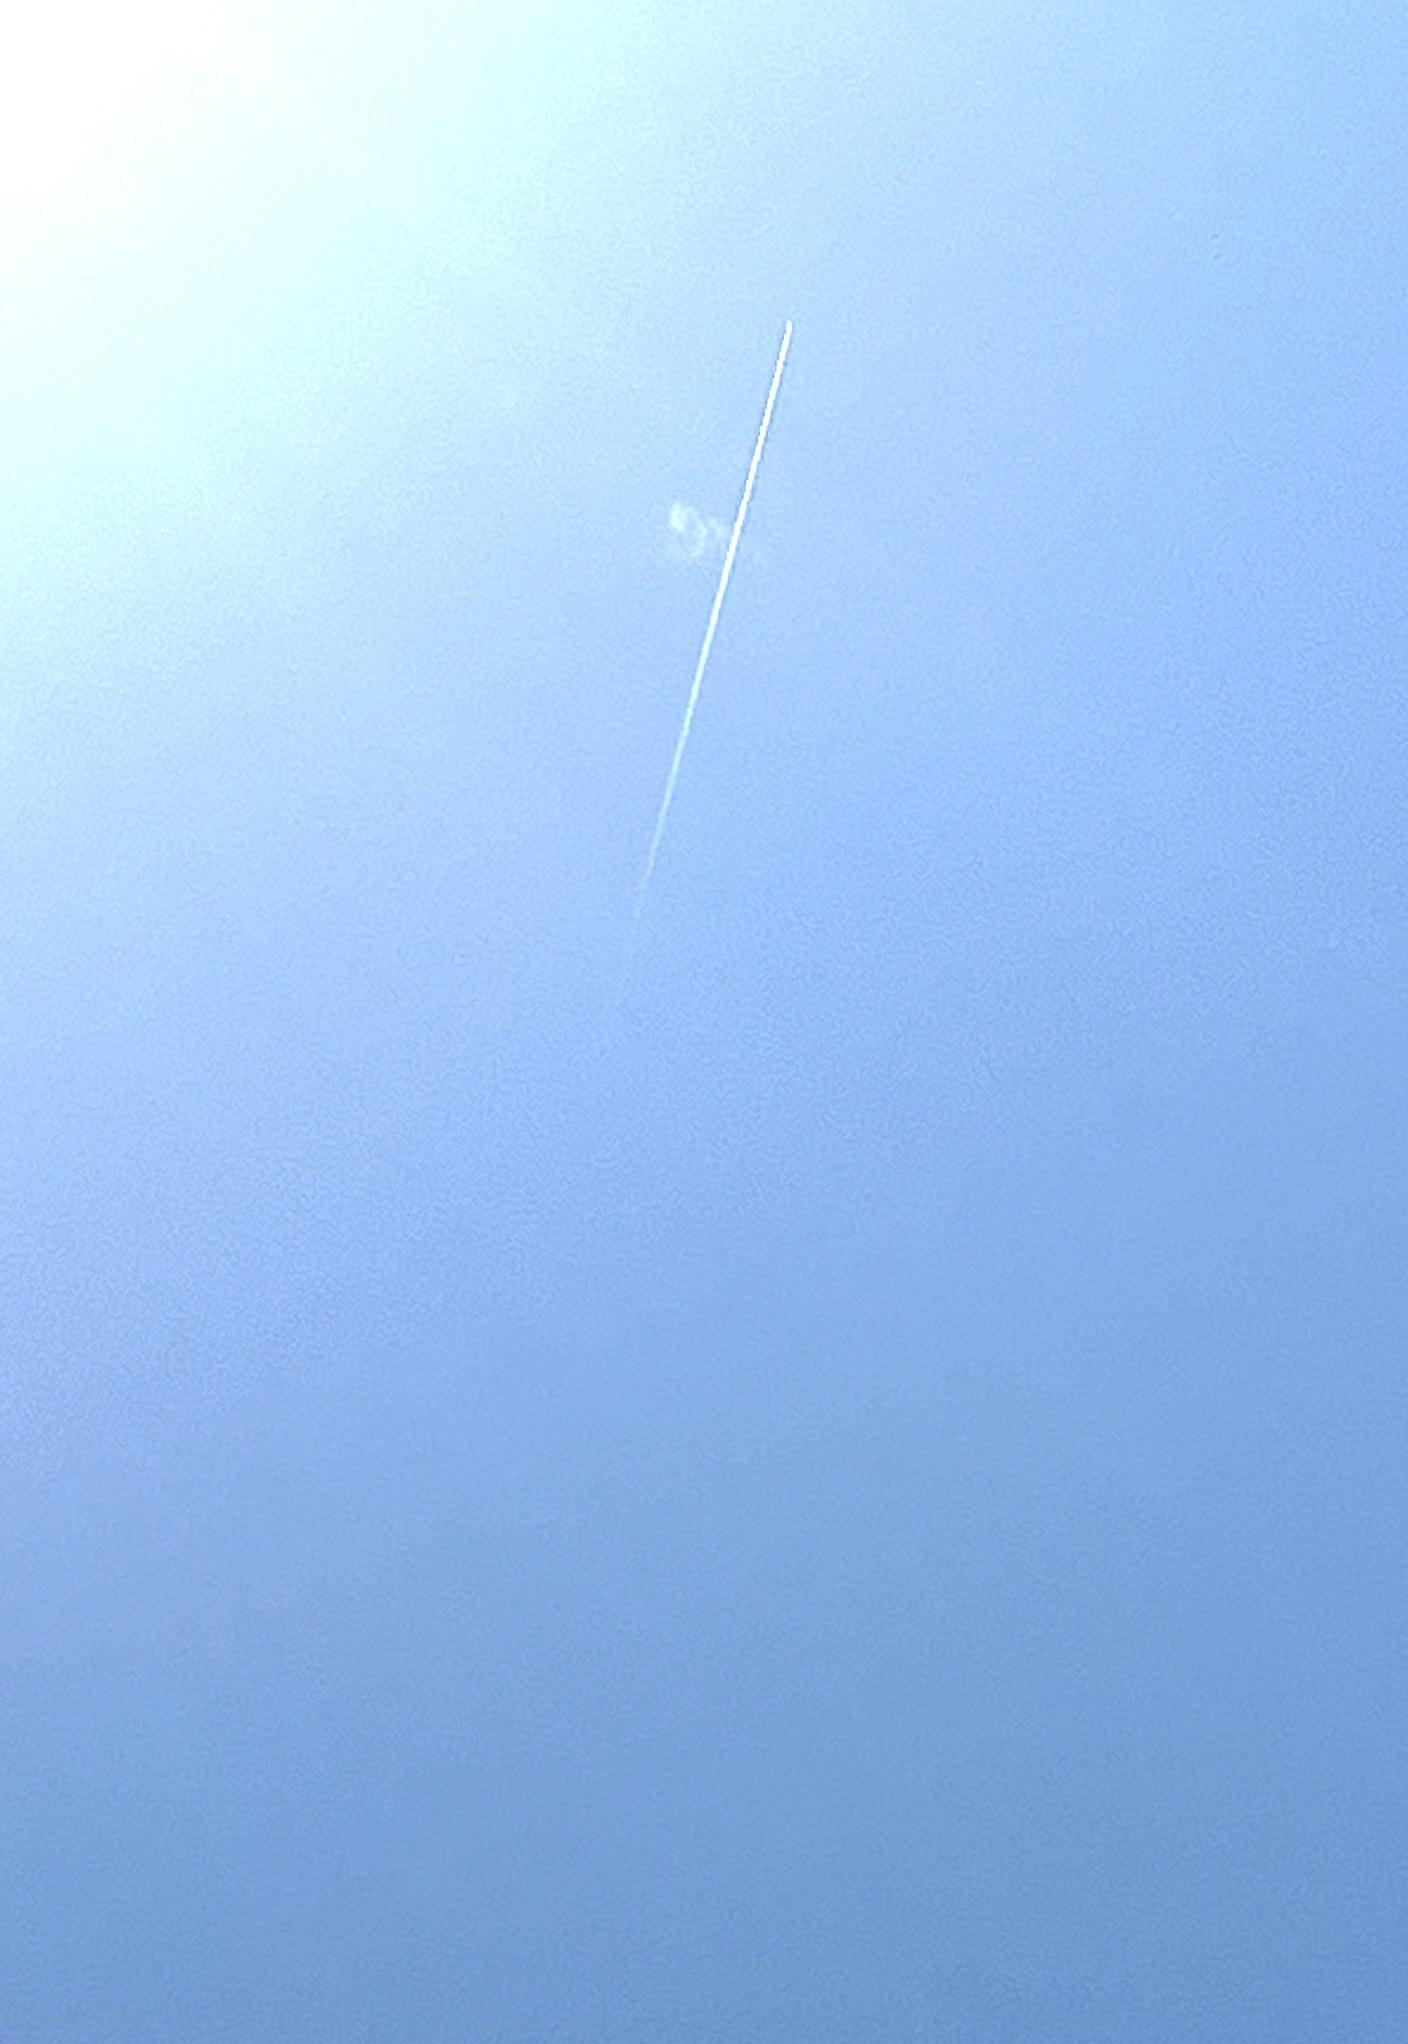Plane: (590, 290, 848, 901)
